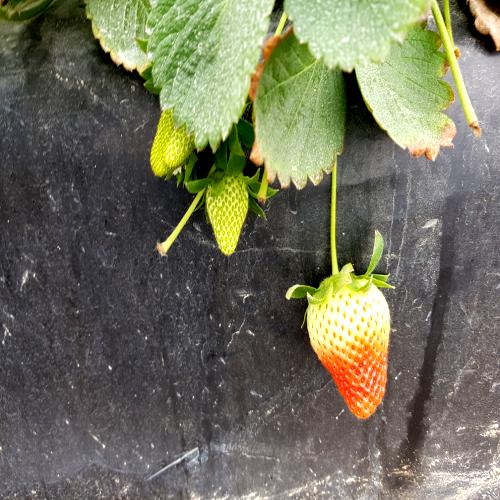partially-ripe: (305, 264, 396, 432)
